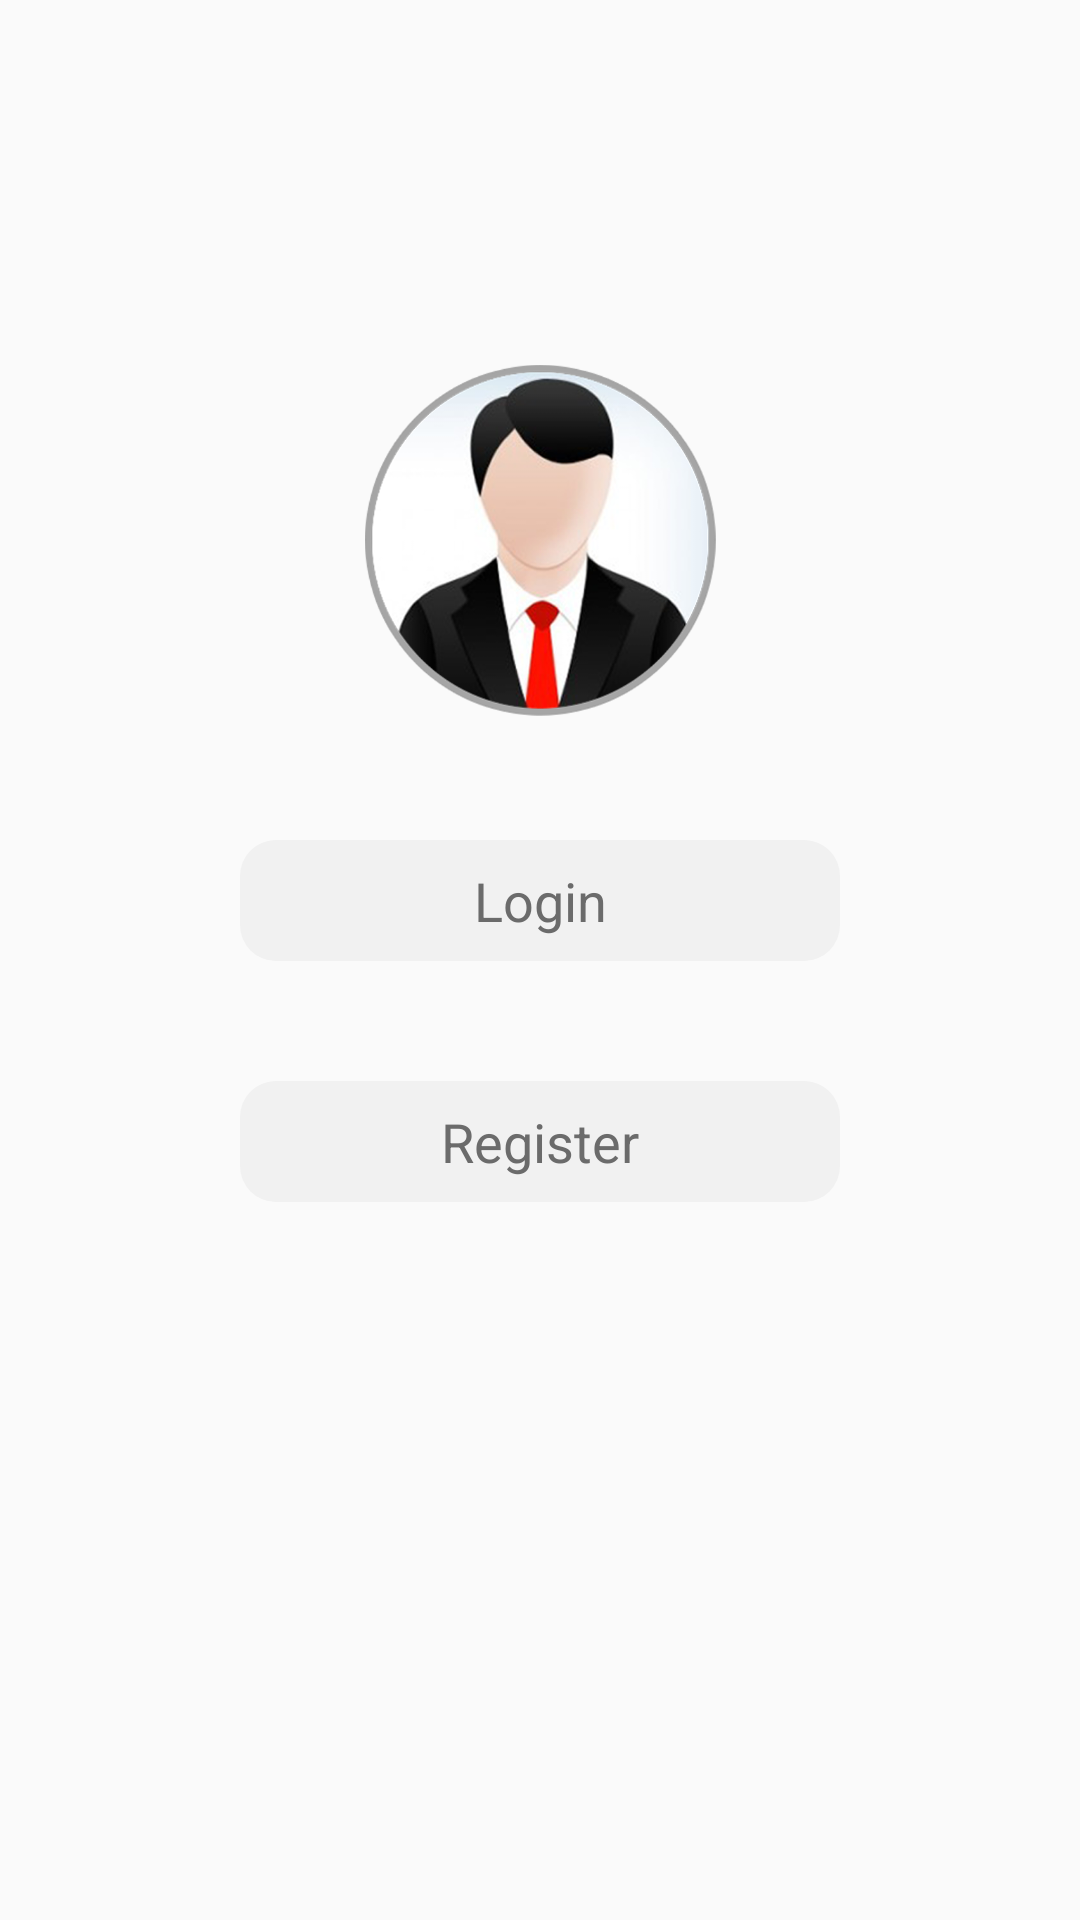

Icons on this 1080 × 1920 Android screen, each with the point to tap as [x,y]:
web user: [540,540]
